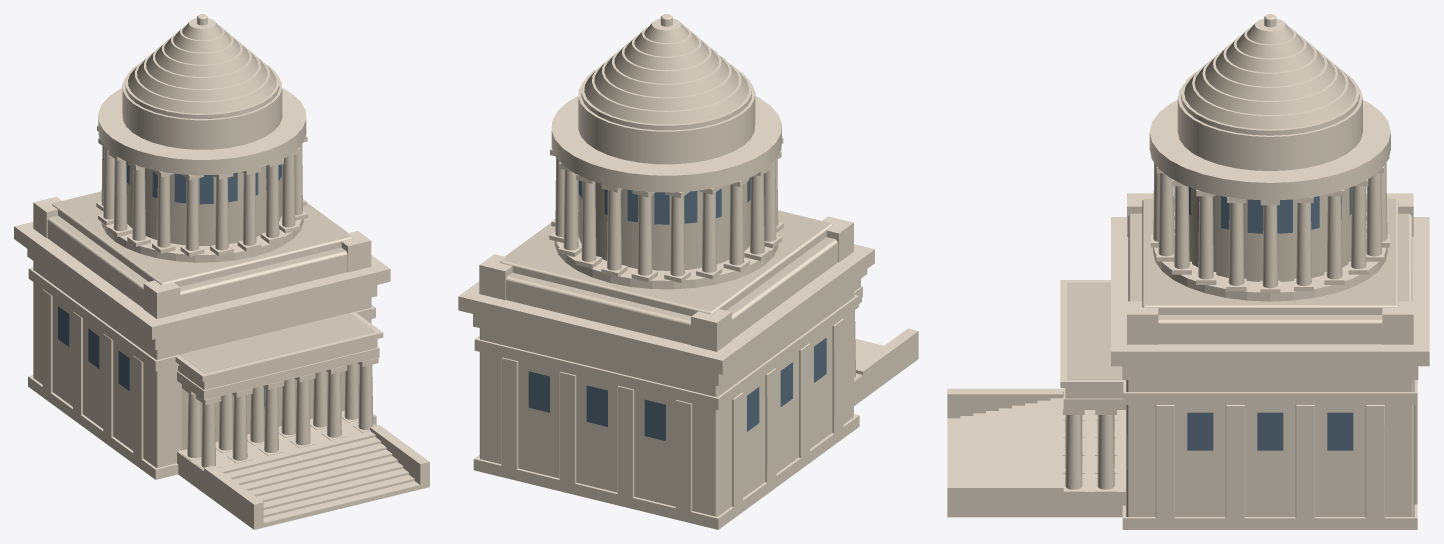
File: nyc-grants-tomb.glb
The picture shows the model from 3 angles, left to right: view 1: azimuth 30°, elevation 25°; view 2: azimuth 150°, elevation 25°; view 3: azimuth 270°, elevation 25°; orthographic projection. The views are drawn at different scales.
Parts seen in each view (by area): view 1: General Grant National Memorial; view 2: General Grant National Memorial; view 3: General Grant National Memorial.
Part boxes in pixels (left/top/right/bottom): General Grant National Memorial: left=14, top=14, right=429, bottom=529; General Grant National Memorial: left=458, top=14, right=918, bottom=529; General Grant National Memorial: left=947, top=14, right=1429, bottom=529.
Bounding box in the file's own units: 29.6 × 46.3 × 44.8.
